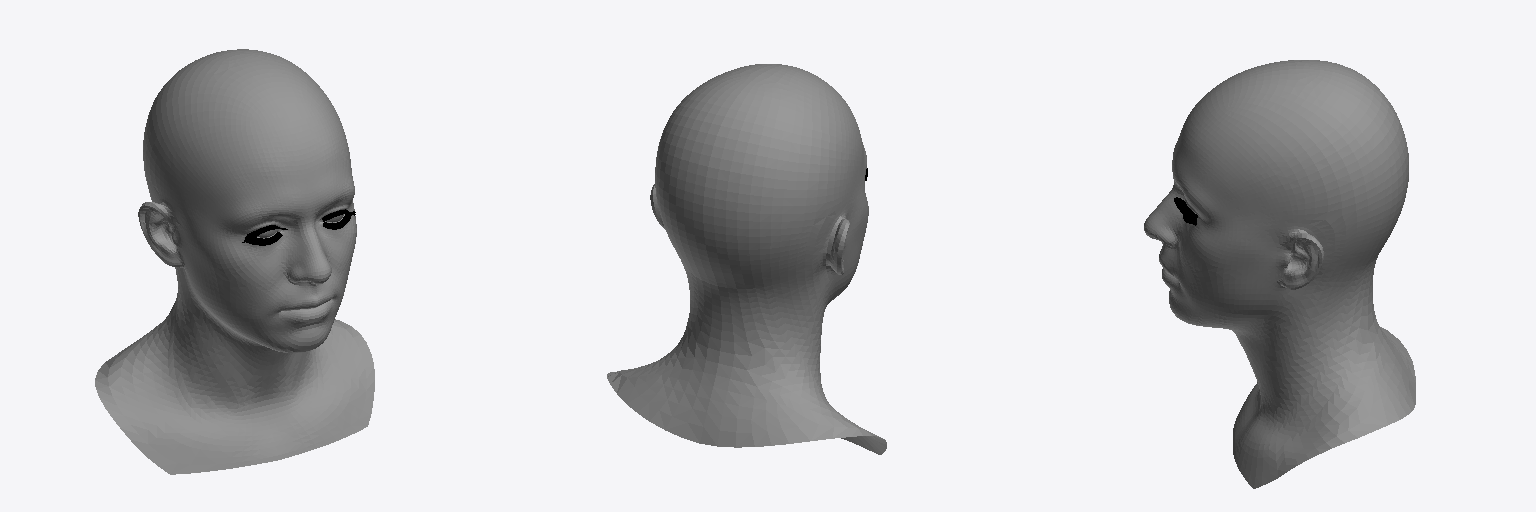
The model's file is eyeLookUp_R.obj.
The picture shows the model from 3 angles: view 1: azimuth 30°, elevation 25°; view 2: azimuth 150°, elevation 25°; view 3: azimuth 270°, elevation 25°; orthographic projection.
Size of the model in its own units: 24.83 by 33.81 by 22.32.